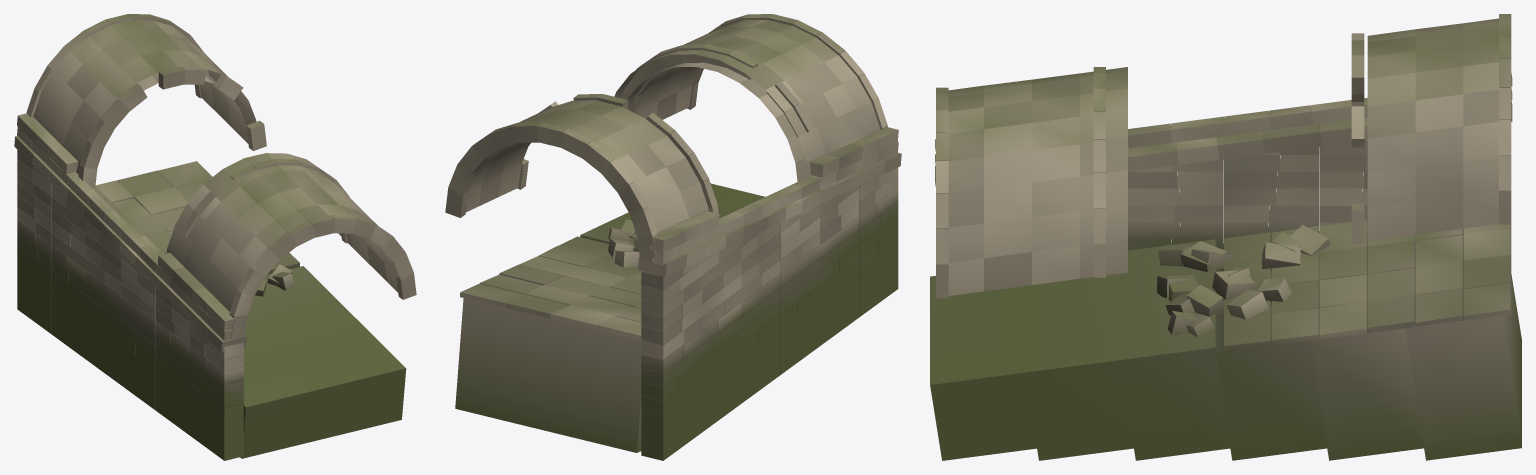
Rendered from harbour_shed_broken_mid.glb.
3 views of the same model, side by side, from view 1: azimuth 30°, elevation 25°; view 2: azimuth 150°, elevation 25°; view 3: azimuth 270°, elevation 25° (orthographic). The views are drawn at different scales.
Parts seen in each view (by area): view 1: harbour_shed_broken_mid; view 2: harbour_shed_broken_mid; view 3: harbour_shed_broken_mid.
Boxes of the visible parts, box(x1,y1,x2,y2) form: harbour_shed_broken_mid: box(14, 14, 416, 460); harbour_shed_broken_mid: box(445, 14, 901, 460); harbour_shed_broken_mid: box(930, 14, 1521, 460).
Size of the model in its own units: 30.1 by 40.26 by 57.1.
